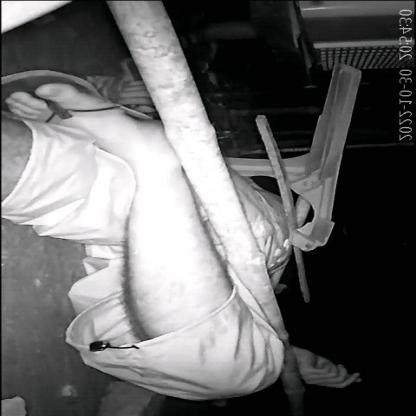hand: (275, 333, 377, 405)
leg: (0, 64, 241, 329)
